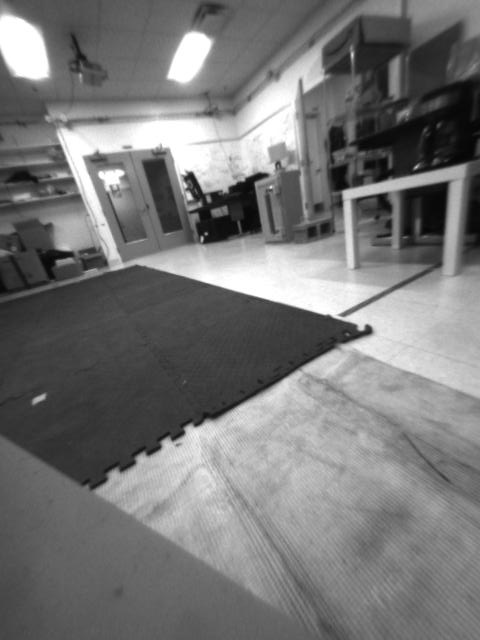coffee_pot: (412, 76, 473, 169)
